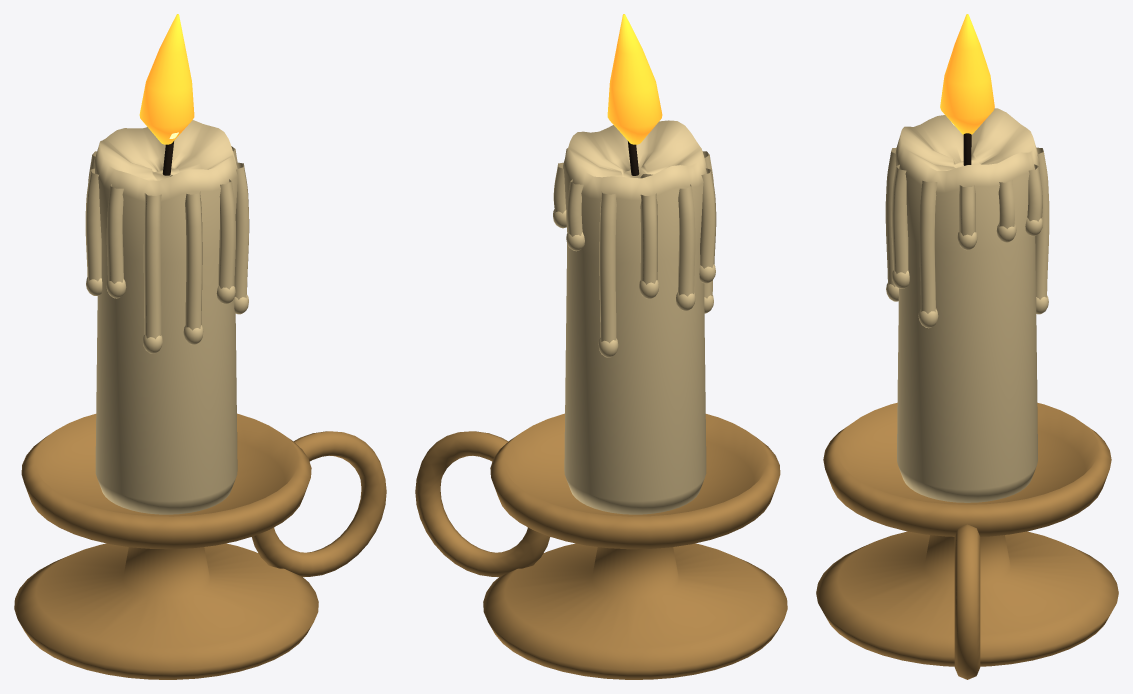
File: Candle.glb
3 views of the same model, side by side, from view 1: azimuth 30°, elevation 25°; view 2: azimuth 150°, elevation 25°; view 3: azimuth 270°, elevation 25° (orthographic).
Parts seen in each view (by area): view 1: Candleholder_Foot, Beeswax_Column, Holder_Finger_Loop, Separate_Flame, Wax_Drip.007, Wax_Drip.008, Wax_Drip.009, Wax_Drip.010, Wax_Drip.005, Wax_Drip.006; view 2: Candleholder_Foot, Beeswax_Column, Holder_Finger_Loop, Separate_Flame, Wax_Drip.003, Wax_Drip.005, Wax_Drip.004, Wax_Drip.006, Wax_Drip.002; view 3: Candleholder_Foot, Beeswax_Column, Separate_Flame, Holder_Finger_Loop, Wax_Drip.010, Wax_Drip.009, Wax_Drip.003, Wax_Drip.008, Wax_Drip, Wax_Drip.002, Wax_Drip.001.
Boxes of the visible parts, x1,y1,x2,y2 form: Candleholder_Foot: (14,413,318,679); Beeswax_Column: (94,120,237,514); Holder_Finger_Loop: (252,431,386,577); Separate_Flame: (139,14,194,144); Wax_Drip.007: (143,193,161,339); Wax_Drip.008: (185,191,202,330); Wax_Drip.009: (218,179,235,289); Wax_Drip.010: (234,162,249,299); Wax_Drip.005: (85,168,101,281); Wax_Drip.006: (106,184,123,283); Candleholder_Foot: (483,413,787,679); Beeswax_Column: (563,120,707,514); Holder_Finger_Loop: (415,431,549,577); Separate_Flame: (607,14,662,144); Wax_Drip.003: (599,191,616,343); Wax_Drip.005: (678,184,695,296); Wax_Drip.004: (640,193,657,284); Wax_Drip.006: (700,168,716,268); Wax_Drip.002: (566,179,583,236); Candleholder_Foot: (816,402,1118,666); Beeswax_Column: (895,108,1039,502); Separate_Flame: (940,14,994,134); Holder_Finger_Loop: (954,524,980,679); Wax_Drip.010: (919,180,937,313); Wax_Drip.009: (891,164,908,273); Wax_Drip.003: (1035,147,1049,299); Wax_Drip.008: (885,147,896,286); Wax_Drip: (959,185,975,235); Wax_Drip.002: (1027,164,1042,221); Wax_Drip.001: (998,180,1014,228).
Size of the model in its own units: 0.279 by 0.46 by 0.21.
